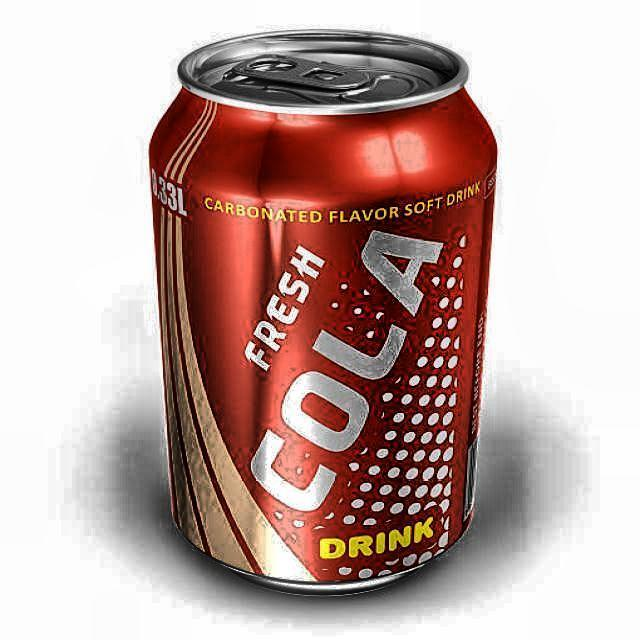metal: (147, 28, 499, 597)
